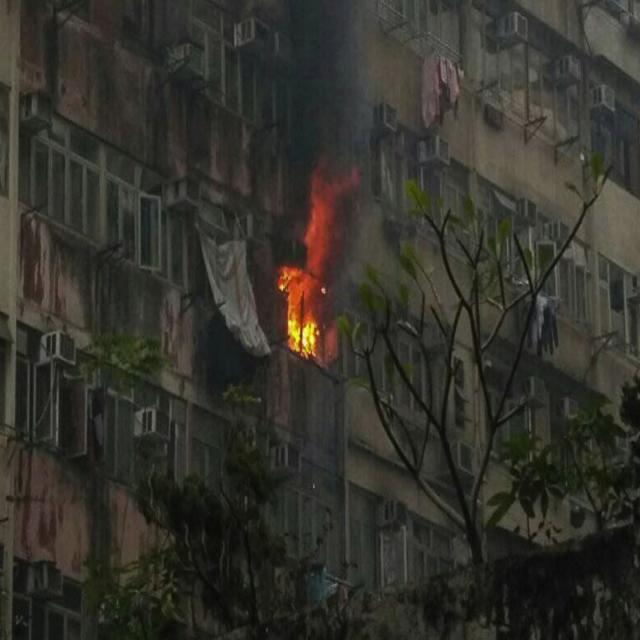fire: (284, 200, 328, 355)
